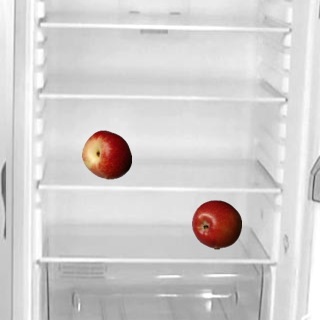Apple Braeburn: (191, 199, 241, 249)
Nectarine: (81, 129, 131, 179)
